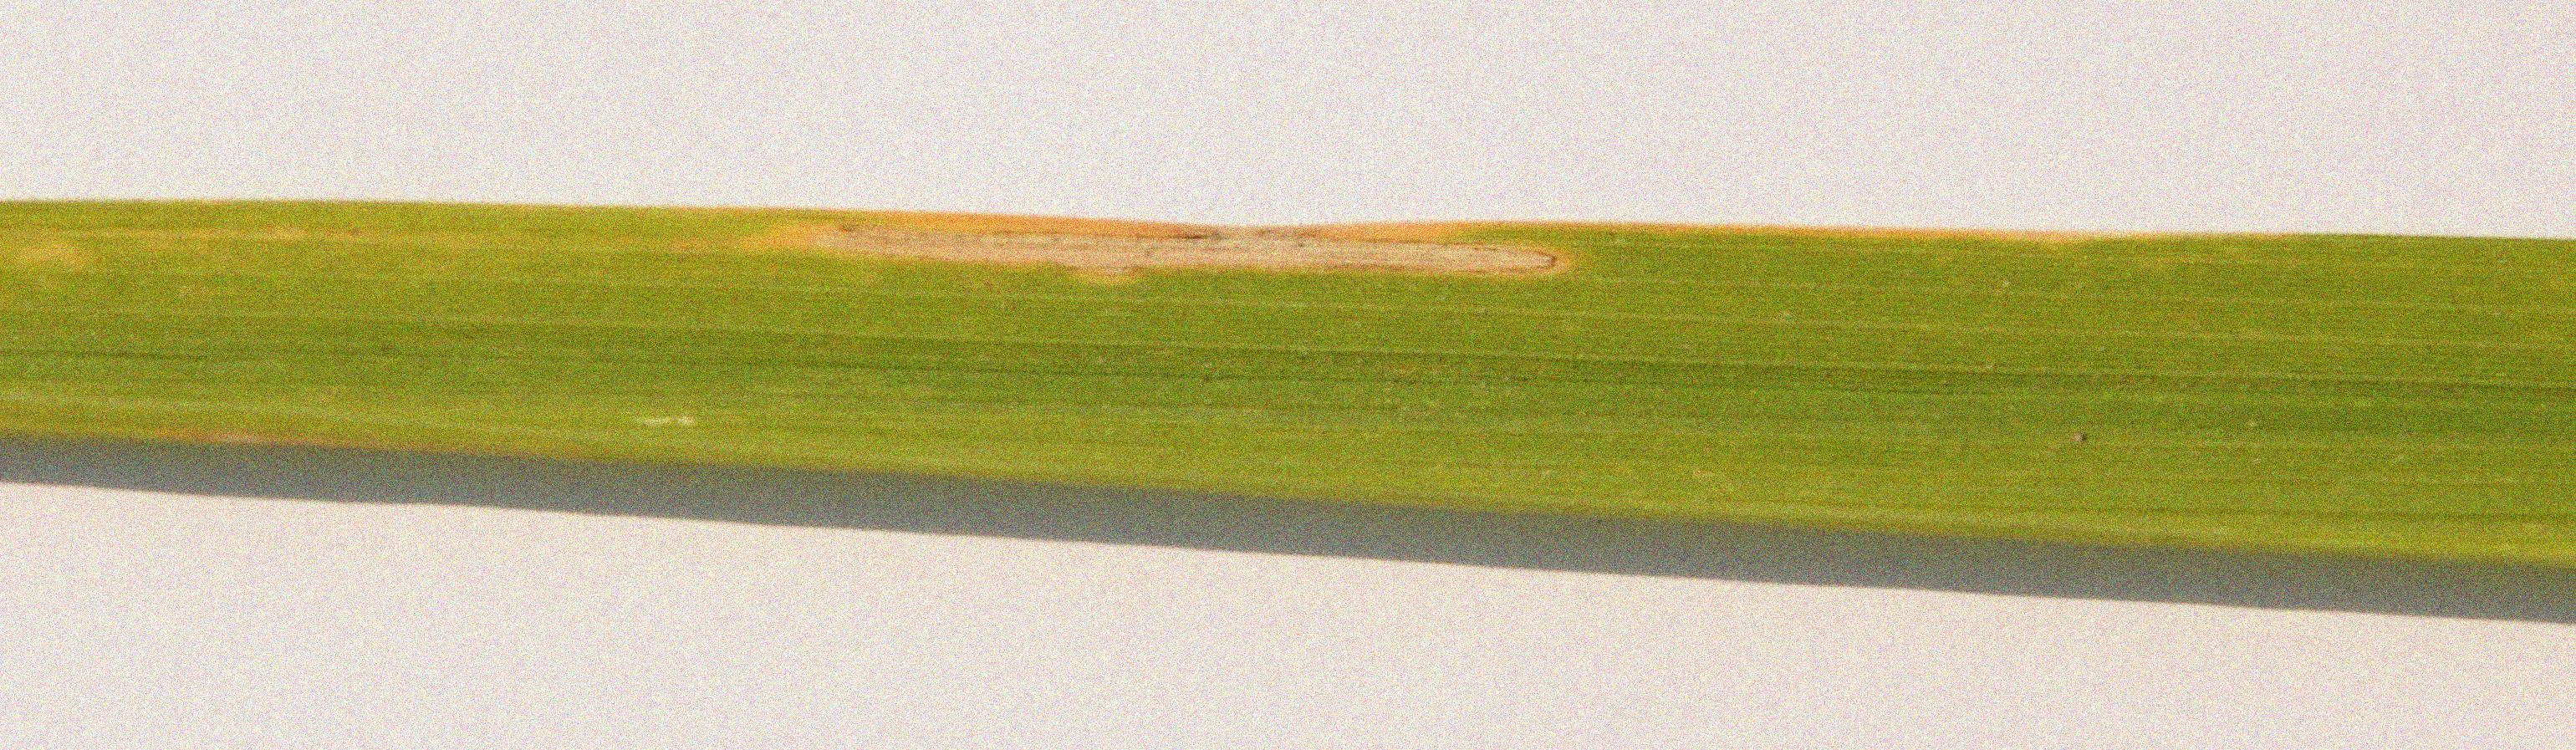bacterial_leaf_blight: (659, 199, 1630, 318)
